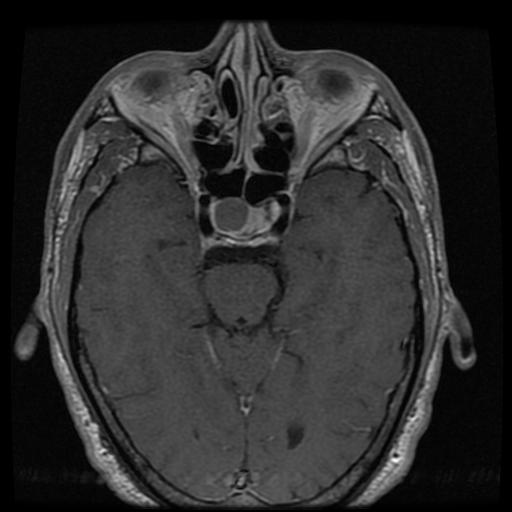Pituirity_tumour: (212, 198, 260, 233)
